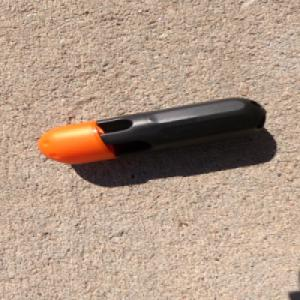PlasticPart: (37, 96, 268, 165)
